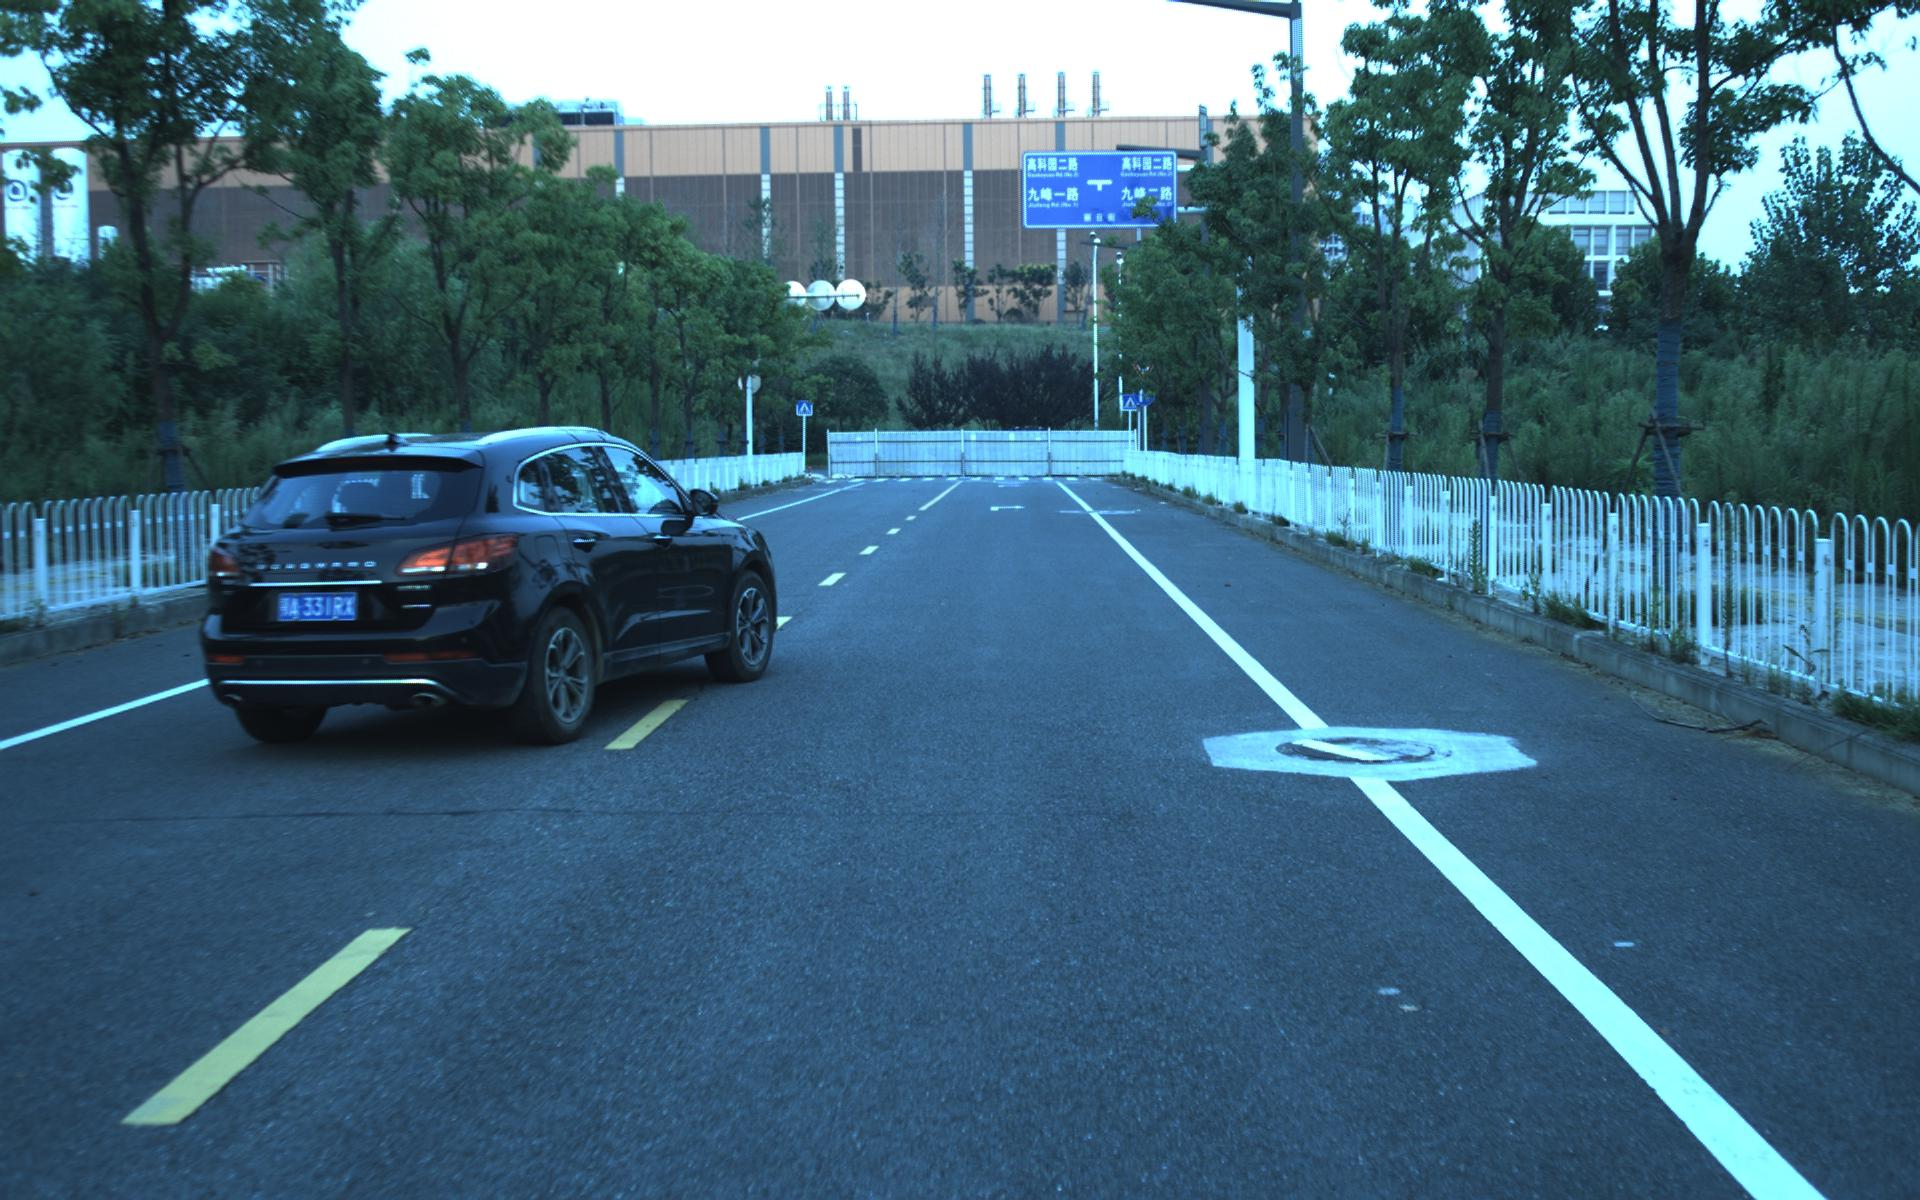Car: (173, 411, 780, 758)
